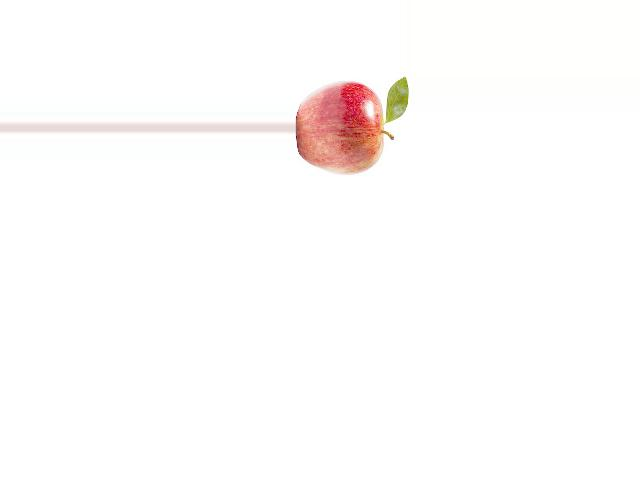apple: (295, 75, 389, 176)
